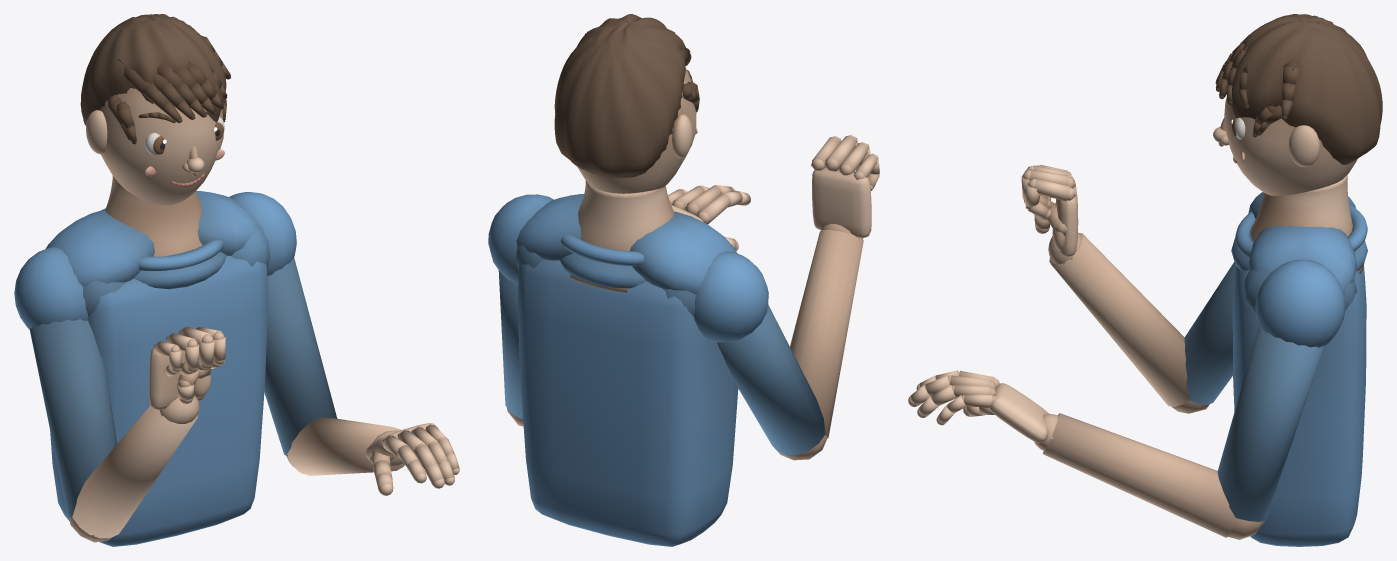
The picture shows the model from 3 angles, left to right: view 1: azimuth 30°, elevation 25°; view 2: azimuth 150°, elevation 25°; view 3: azimuth 270°, elevation 25°; orthographic projection.
Parts seen in each view (by area): view 1: LSC_Body; view 2: LSC_Body; view 3: LSC_Body.
Part boxes in pixels (left/top/right/bottom): LSC_Body: left=14, top=14, right=459, bottom=546; LSC_Body: left=488, top=14, right=879, bottom=546; LSC_Body: left=908, top=14, right=1382, bottom=546.
Size of the model in its own units: 0.4304 by 0.713 by 0.6104.
